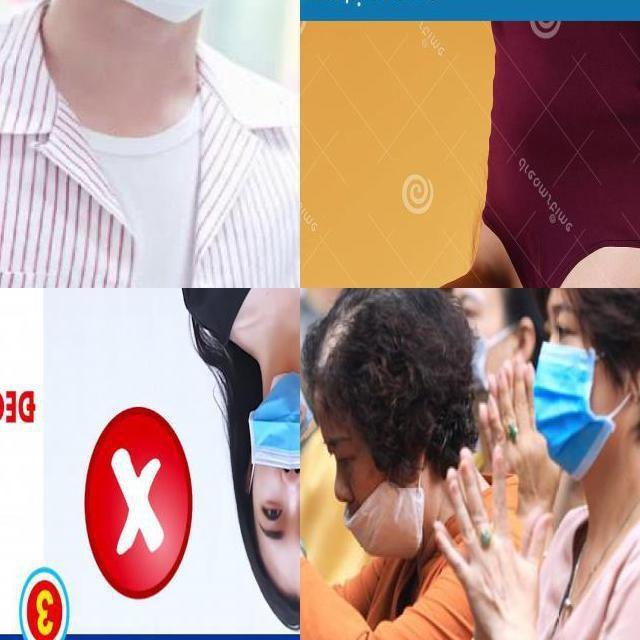hairnet: (333, 462, 429, 566), (248, 394, 299, 494)
